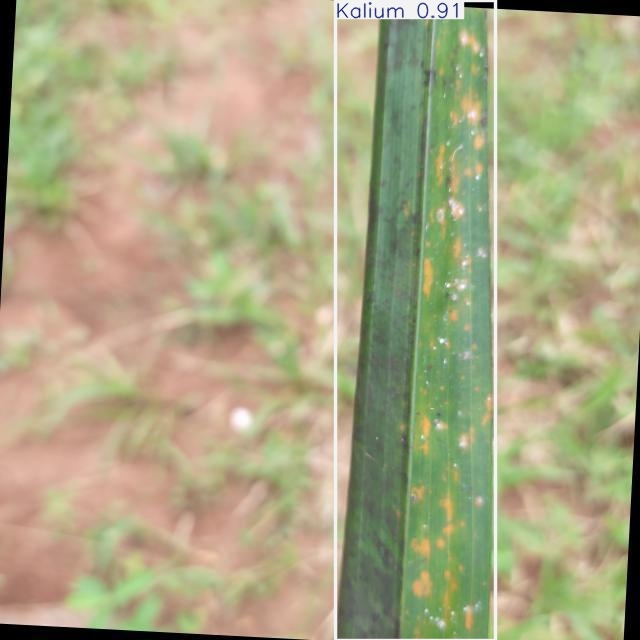Kalium: (336, 0, 495, 640)
